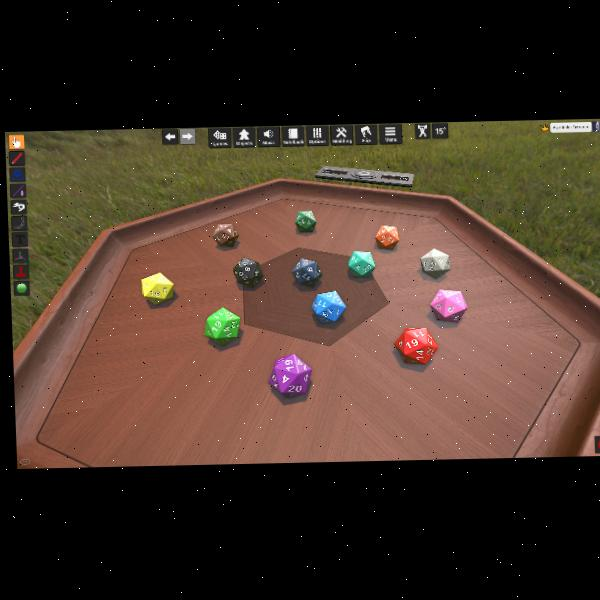d20: (267, 352, 313, 397), (394, 326, 432, 364), (204, 306, 240, 345), (430, 288, 468, 323), (141, 271, 175, 304), (313, 291, 346, 323), (232, 256, 263, 287), (421, 248, 452, 279), (292, 258, 322, 287), (348, 250, 375, 276), (211, 222, 237, 246), (375, 225, 398, 250), (294, 210, 317, 233)
